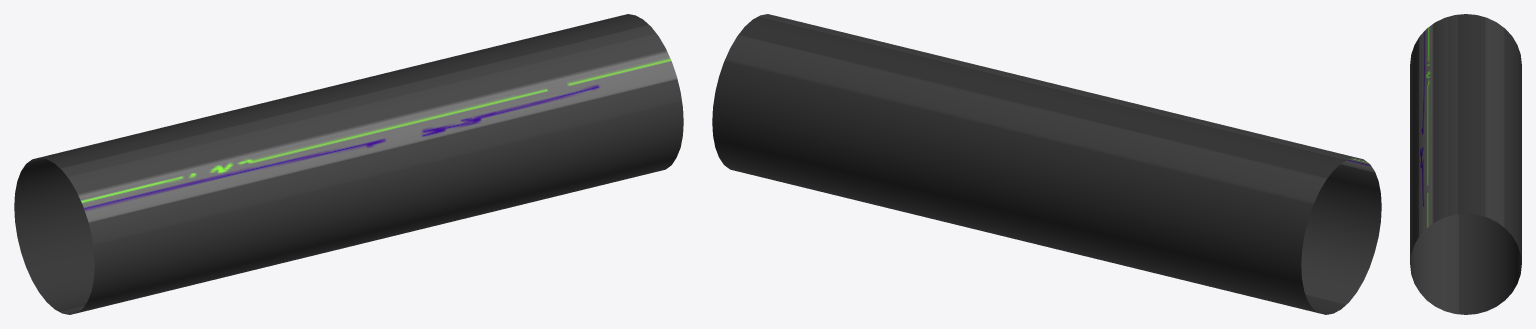
Rendered from SM_Pipe.fbx.
The picture shows the model from 3 angles, left to right: view 1: azimuth 30°, elevation 25°; view 2: azimuth 150°, elevation 25°; view 3: azimuth 270°, elevation 25°; orthographic projection. The views are drawn at different scales.
Visible parts, largest first — view 1: SM_Pipe; view 2: SM_Pipe; view 3: SM_Pipe.
Part boxes in pixels (box(x1,y1,x2,y2)): SM_Pipe: box(14, 14, 683, 314); SM_Pipe: box(712, 14, 1381, 314); SM_Pipe: box(1410, 14, 1521, 314).
Size of the model in its own units: 12.8 by 3.03 by 3.03.
